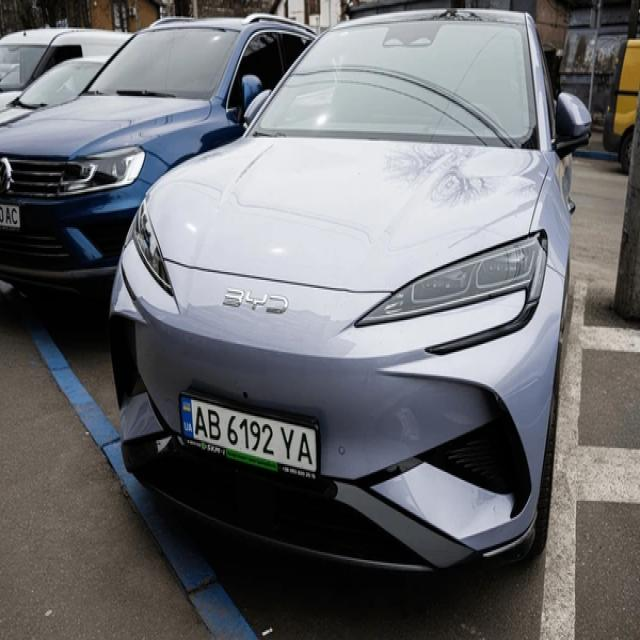byd: (216, 286, 294, 318)
